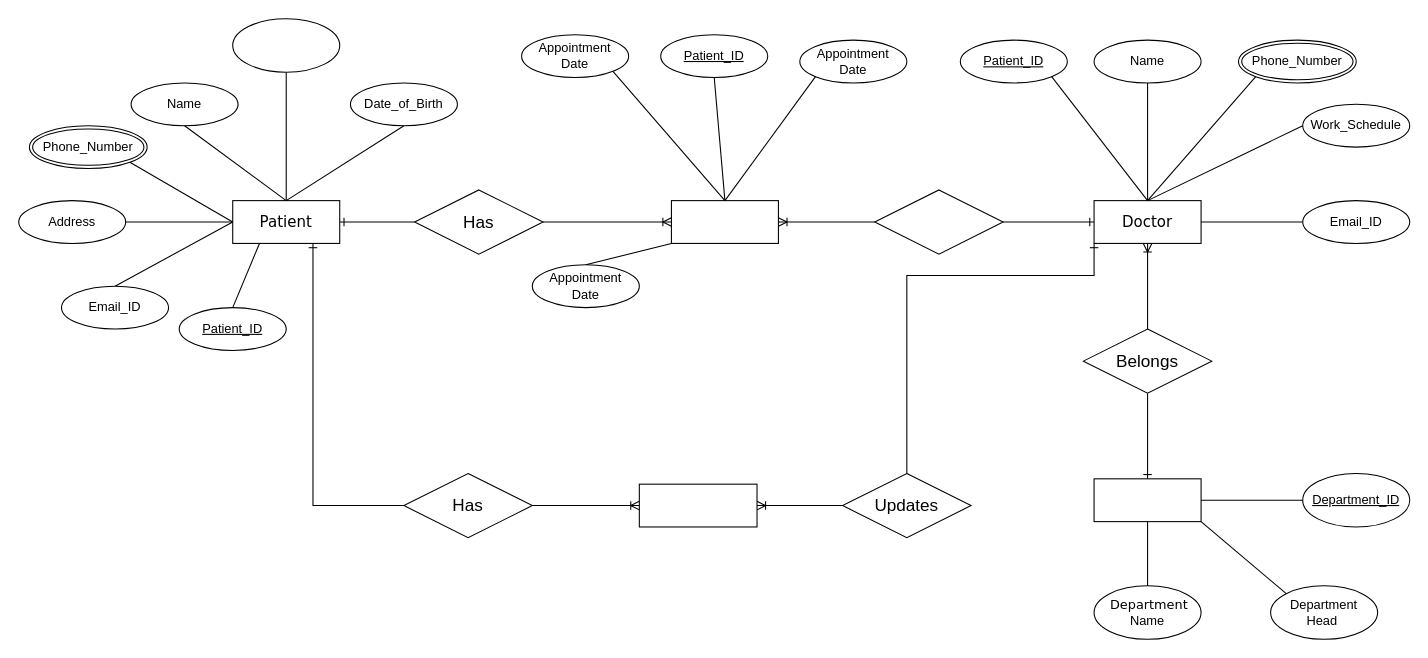
Image size: 1428x658. Some labels were removed from this diagram. Each missing label, with the box of its shape:
Appoinments: (670, 200, 778, 243)
Department: (1093, 478, 1201, 522)
Insurance_Details: (232, 18, 340, 72)
Medical_records: (638, 483, 757, 527)
Schedules: (874, 189, 1003, 254)
